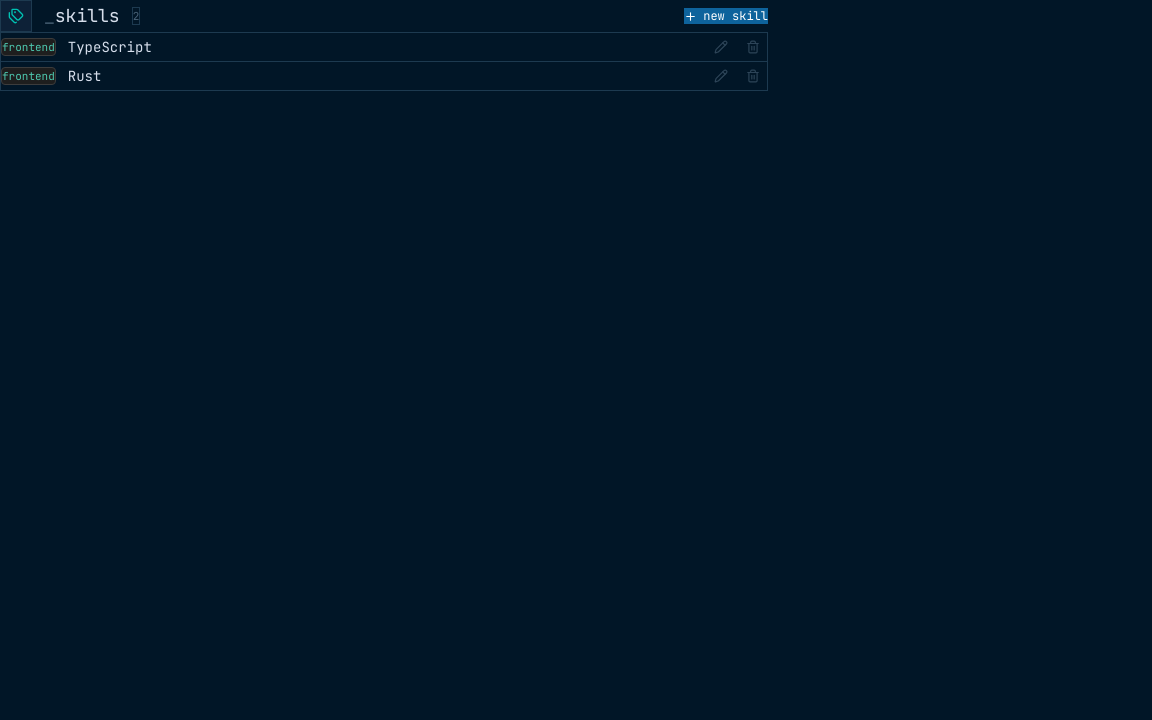
it: admin skills list page › confirming sends an authenticated DELETE, removes the row and toasts success
The width and height of the screenshot is (1152, 720).
Expected: the text "TypeScript" is shown, [68, 37, 152, 57]
Click the button titled "delete" in the row of "TypeScript". click: (753, 47)
box: [739, 33, 767, 61]
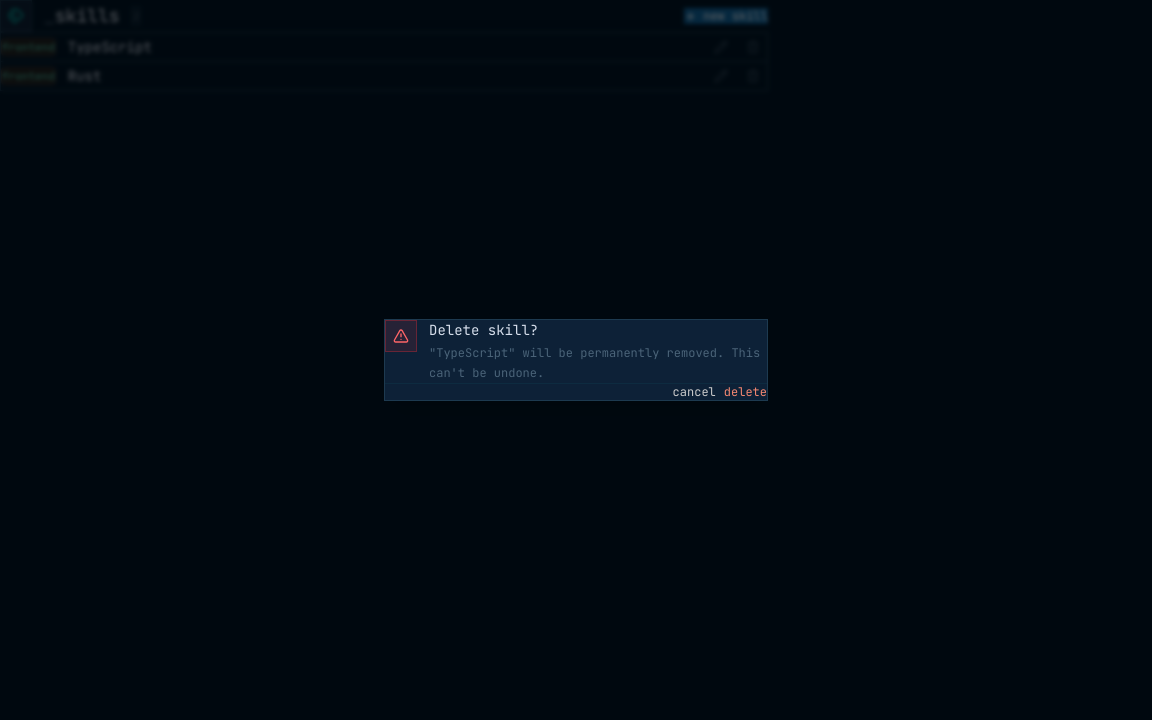
Click the button "delete". click: (745, 392)
box: [724, 384, 767, 400]
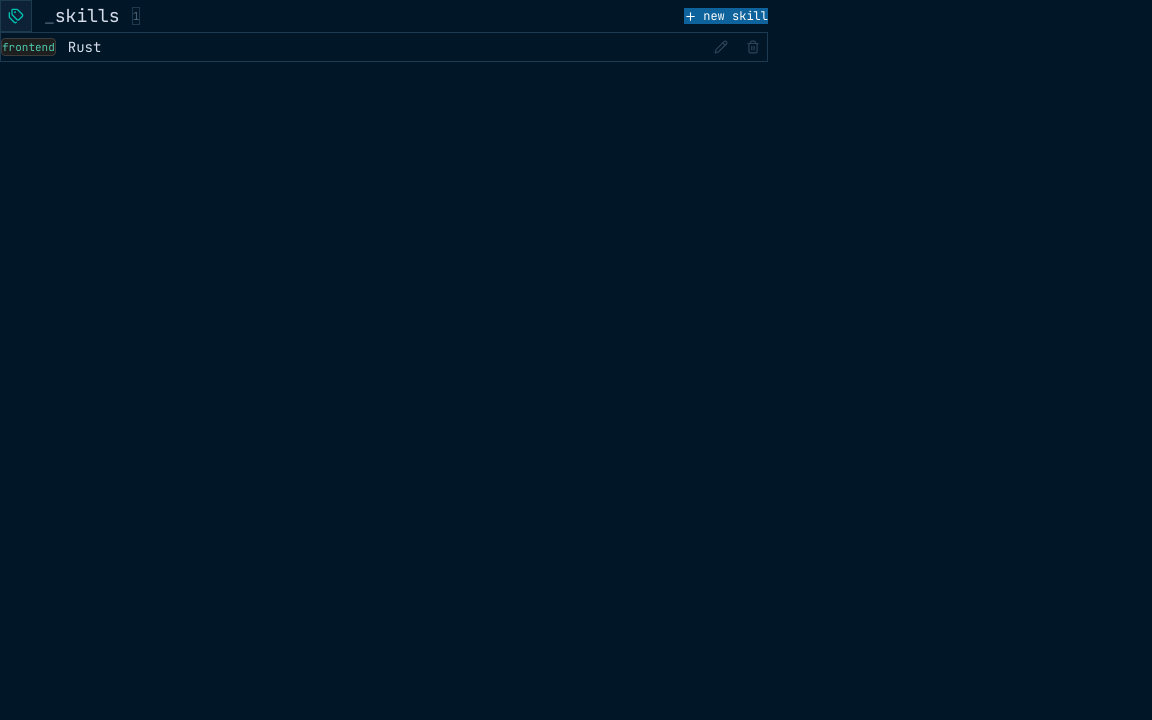
Expected: the text "Rust" is shown, [68, 37, 101, 57]
Expected: the text "TypeScript" is gone
